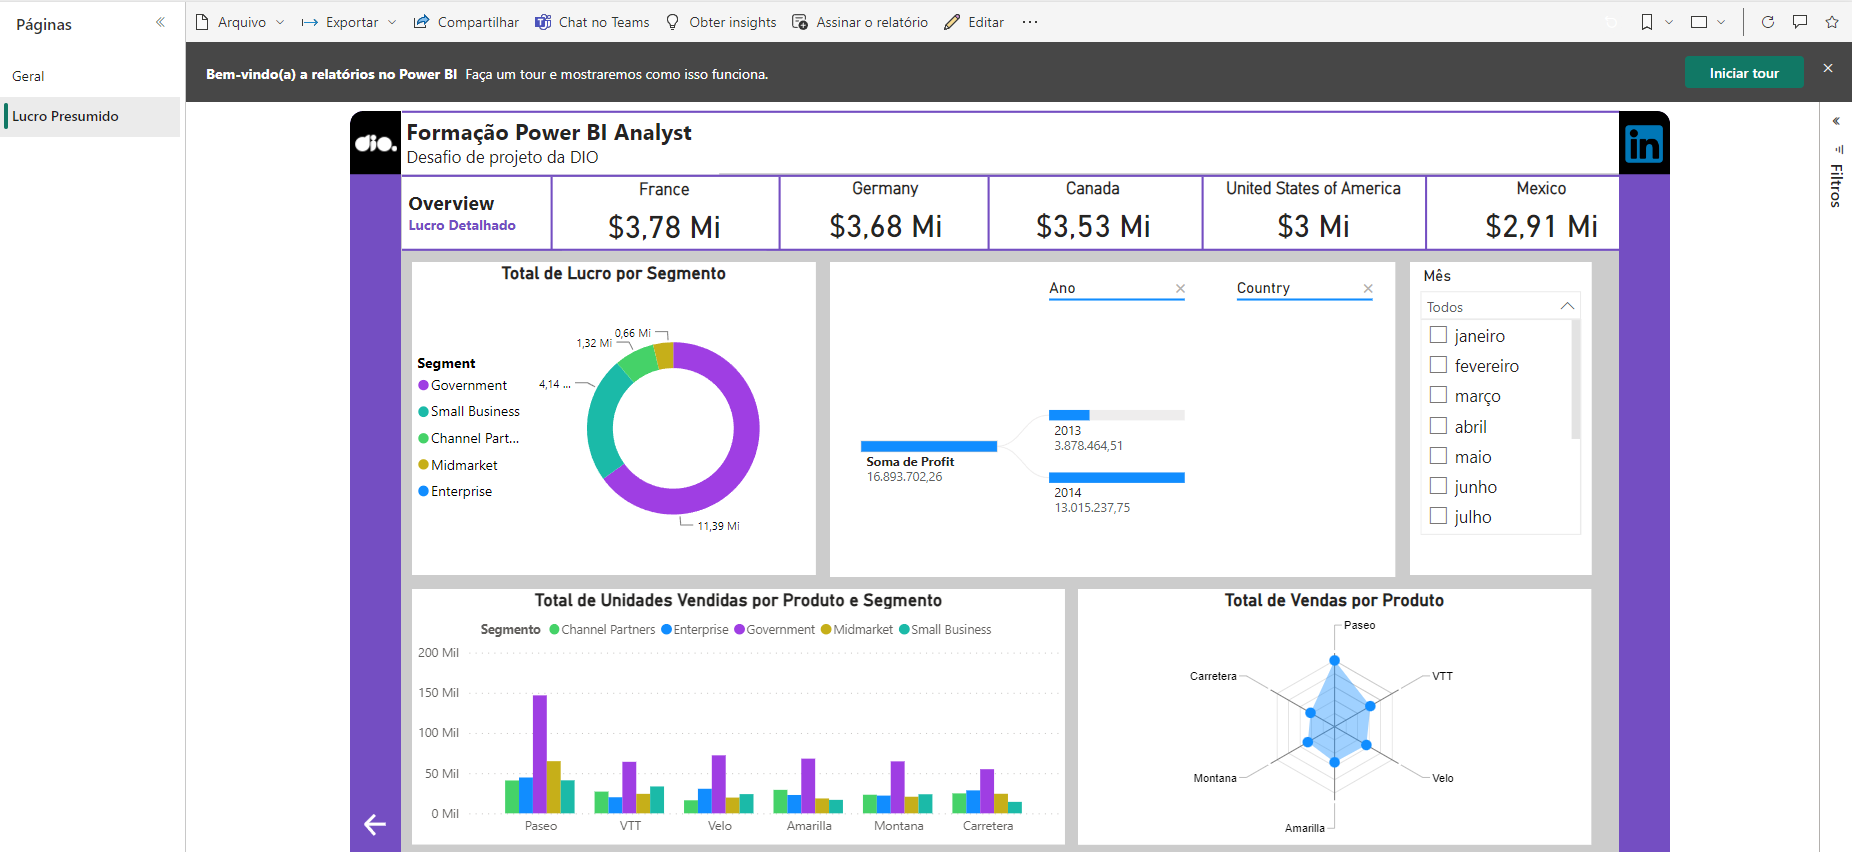

The page's visual inventory and layout, read from the dashboard file:
{"tool":"powerbi","page":{"name":"Lucro Presumido","canvas":[1280,720],"ordinal":1},"visuals":[{"type":"shape","box":[30.4,9.9,1249.3,710.1],"z":0},{"type":"shape","box":[14.3,9,49.3,711],"z":1000},{"type":"shape","box":[14.6,8.7,49.6,61.2],"z":2000},{"type":"image","title":"dio","box":[14.6,15.6,49.6,47.6],"z":3000},{"type":"shape","box":[63.6,9,1216.1,60],"z":4000},{"type":"textbox","box":[63.3,9,304.7,61.3],"z":5000},{"type":"shape","box":[63.8,63.8,1216.2,12.8],"z":7000},{"type":"actionButton","box":[24.1,672.7,30.2,40.2],"z":8000},{"type":"shape","box":[73.6,153.1,386.7,300.4],"z":10000},{"type":"decompositionTreeVisual","fields":{"Analyze":["Sum(financials.Profit)"],"ExplainBy":["financials.Date.Variation.Hierarquia de datas.Ano","financials.Country"]},"box":[474.1,153.1,541.8,302.3],"z":11000},{"type":"shape","box":[1030.7,153.1,173.7,300.4],"z":12000},{"type":"shape","box":[712.6,467.2,491.8,245.4],"z":13000},{"type":"shape","box":[73.6,467.2,626.3,245.4],"z":14000},{"type":"RadarChart1446119667547","title":"Total de Vendas por Produto","fields":{"Y":["Sum(financials. Sales)"],"Category":["financials.Product"]},"box":[712.6,467.2,491.8,245.4],"z":17000},{"type":"shape","box":[63.8,71.7,1216.2,69.7],"z":18500,"group":"g1"},{"type":"shape","box":[193.4,71.4,27.8,69.9],"z":19000,"group":"g1"},{"type":"card","title":"Canada","fields":{"Values":["financials.Profit_Canada"]},"box":[639.4,71.4,174.6,69.9],"z":20000,"group":"g1"},{"type":"card","title":"Germany","fields":{"Values":["financials.Profit_Germany"]},"box":[439.7,71.4,175.5,69.9],"z":21000,"group":"g1"},{"type":"card","title":"Mexico","fields":{"Values":["financials.Profit_Mexico"]},"box":[1047.4,72,217.9,69.7],"z":22000,"group":"g1"},{"type":"card","title":"France","fields":{"Values":["financials.Profit_France"]},"box":[217.1,72.9,196.3,69.7],"z":23000,"group":"g1"},{"type":"card","title":"United States of America","fields":{"Values":["financials.Profit_USA"]},"box":[845.4,71.4,185.4,69.9],"z":24000,"group":"g1"},{"type":"shape","box":[411.9,71.4,27.8,69.9],"z":25000,"group":"g1"},{"type":"shape","box":[612.5,71.4,27.8,69.9],"z":26000,"group":"g1"},{"type":"shape","box":[817.6,71.4,27.8,69.9],"z":27000,"group":"g1"},{"type":"shape","box":[1031.8,70.7,27.5,69.7],"z":28000,"group":"g1"},{"type":"group","id":"g1","title":"OverView","box":[63.8,70.7,1216.2,71.7],"z":28001},{"type":"shape","box":[63.8,135.5,1216.2,12.8],"z":28002},{"type":"donutChart","title":"Total de Lucro por Segmento","fields":{"Y":["Sum(financials.Profit)"],"Category":["financials.Segment"]},"box":[73.6,153.1,386.7,300.4],"z":28004},{"type":"clusteredColumnChart","title":"Total de Unidades Vendidas por Produto e Segmento","fields":{"Y":["Sum(financials.Units Sold)"],"Category":["financials.Product"],"Series":["financials.Segment"]},"box":[73.6,467.2,626.3,245.4],"z":28006},{"type":"slicer","fields":{"Values":["financials.Date.Variation.Hierarquia de datas.Mês"]},"box":[1030.7,153.1,173.7,300.4],"z":28007},{"type":"shape","box":[1230.9,8.8,49.1,711.7],"z":28008},{"type":"shape","box":[63.8,2.9,1167.1,12.8],"z":28009},{"type":"shape","box":[1230.9,8.8,49.1,60.9],"z":28010},{"type":"image","box":[1229,17.7,51,46.1],"z":28011},{"type":"textbox","box":[65,78.6,141.3,55],"z":28500,"group":"g1"}]}

Visuals, with their boxes on the page's 1280x720 design canvas (x1, y1, x2, y2). These are canvas units, not pixel positions in the 1852x852 screenshot, which may show the page scaled, cropped or inside an application window:
shape: bbox(30, 10, 1280, 720)
shape: bbox(14, 9, 64, 720)
shape: bbox(15, 9, 64, 70)
"dio" image: bbox(15, 16, 64, 63)
shape: bbox(64, 9, 1280, 69)
textbox: bbox(63, 9, 368, 70)
shape: bbox(64, 64, 1280, 77)
actionButton: bbox(24, 673, 54, 713)
shape: bbox(74, 153, 460, 454)
decompositionTreeVisual - Sum(financials.Profit) x financials.Date.Variation.Hierarquia de datas.Ano: bbox(474, 153, 1016, 455)
shape: bbox(1031, 153, 1204, 454)
shape: bbox(713, 467, 1204, 713)
shape: bbox(74, 467, 700, 713)
"Total de Vendas por Produto" RadarChart1446119667547: bbox(713, 467, 1204, 713)
shape: bbox(64, 72, 1280, 141)
shape: bbox(193, 71, 221, 141)
"Canada" card: bbox(639, 71, 814, 141)
"Germany" card: bbox(440, 71, 615, 141)
"Mexico" card: bbox(1047, 72, 1265, 142)
"France" card: bbox(217, 73, 413, 143)
"United States of America" card: bbox(845, 71, 1031, 141)
shape: bbox(412, 71, 440, 141)
shape: bbox(612, 71, 640, 141)
shape: bbox(818, 71, 845, 141)
shape: bbox(1032, 71, 1059, 140)
"OverView" group: bbox(64, 71, 1280, 142)
shape: bbox(64, 136, 1280, 148)
"Total de Lucro por Segmento" donutChart: bbox(74, 153, 460, 454)
"Total de Unidades Vendidas por Produto e Segmento" clusteredColumnChart: bbox(74, 467, 700, 713)
slicer - financials.Date.Variation.Hierarquia de datas.Mês: bbox(1031, 153, 1204, 454)
shape: bbox(1231, 9, 1280, 720)
shape: bbox(64, 3, 1231, 16)
shape: bbox(1231, 9, 1280, 70)
image: bbox(1229, 18, 1280, 64)
textbox: bbox(65, 79, 206, 134)
